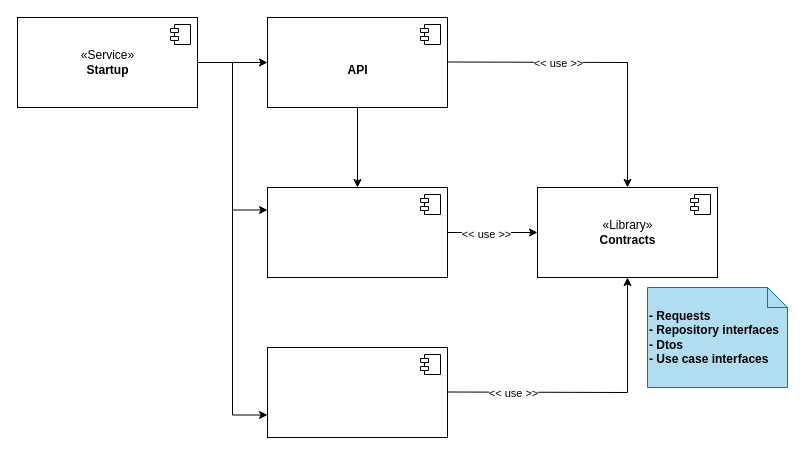
The diagram is 805 pixels wide and 455 high, and some of its shapes have lost their labels. The centre of each missing label's shape, as x and y in pixels:
"«Library» Repository" goes at point (357, 392).
"«Library» Use Cases" goes at point (357, 232).
